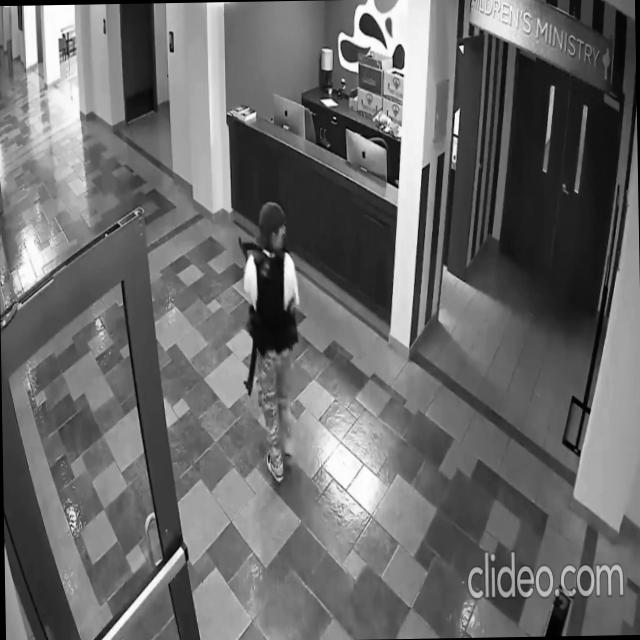gun: (242, 302, 260, 401), (238, 236, 263, 256)
person with a gun: (238, 197, 301, 488)
